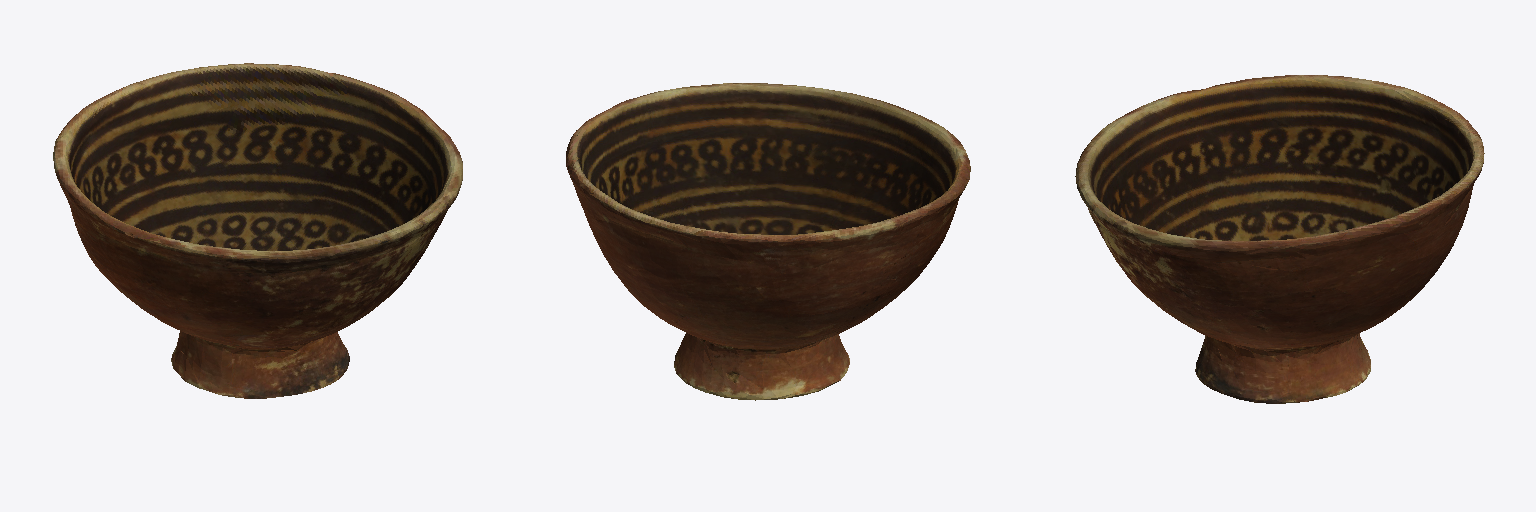
The picture shows the model from 3 angles: view 1: azimuth 30°, elevation 25°; view 2: azimuth 150°, elevation 25°; view 3: azimuth 270°, elevation 25°; orthographic projection.
Parts seen in each view (by area): view 1: piece2219.001; view 2: piece2219.001; view 3: piece2219.001.
Boxes of the visible parts, x1=… form: piece2219.001: x1=53, y1=63, x2=462, y2=398; piece2219.001: x1=566, y1=83, x2=970, y2=400; piece2219.001: x1=1075, y1=75, x2=1484, y2=403.
Bounding box in the file's own units: 0.432 × 0.2537 × 0.4364.
1 materials, 1 textured.